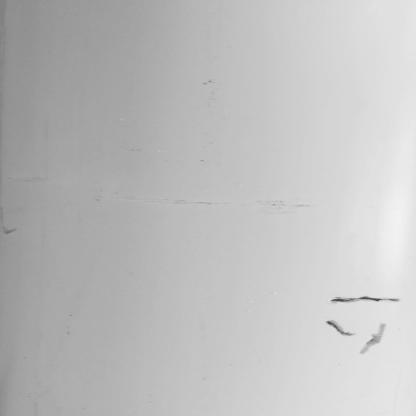fengxi: (329, 294, 401, 306), (363, 324, 386, 353), (324, 320, 356, 337)
